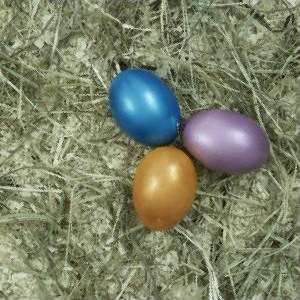egg: (131, 145, 197, 232), (183, 110, 270, 174), (110, 69, 180, 147)
